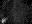person: (1, 17, 7, 23)
